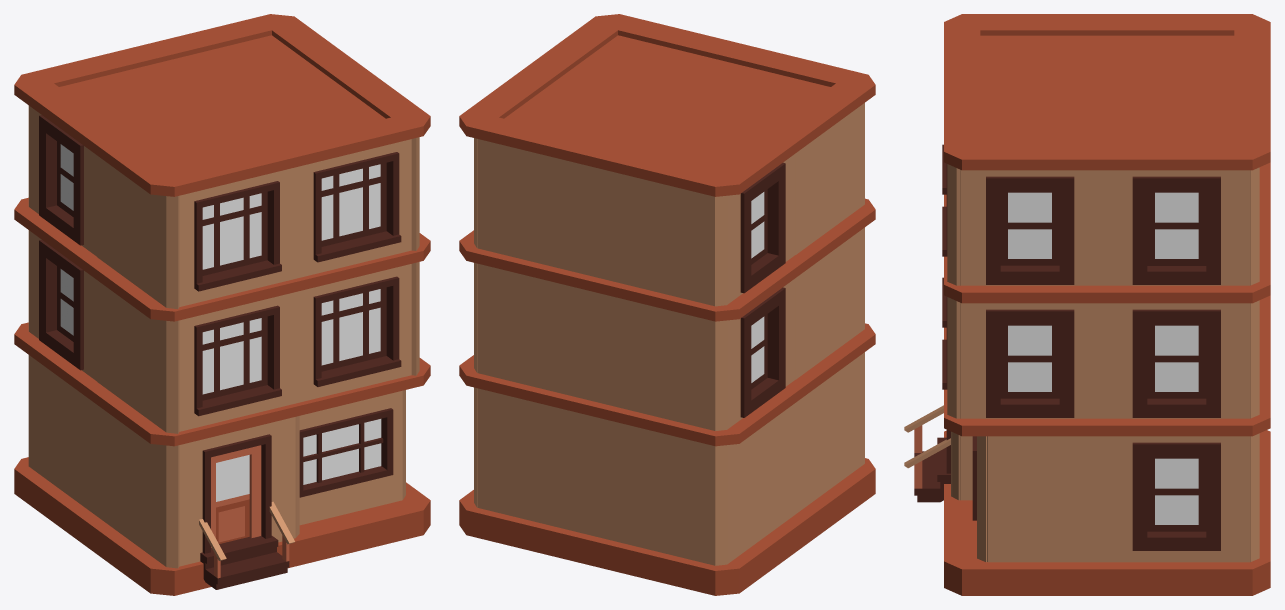
The model's file is Building_3.fbx.
The picture shows the model from 3 angles, left to right: view 1: azimuth 30°, elevation 25°; view 2: azimuth 150°, elevation 25°; view 3: azimuth 270°, elevation 25°; orthographic projection. The views are drawn at different scales.
Parts seen in each view (by area): view 1: mergedBlocks; view 2: mergedBlocks; view 3: mergedBlocks.
Part boxes in pixels (x1,y1,x2,y2): mergedBlocks: (14,14,430,595); mergedBlocks: (459,14,875,595); mergedBlocks: (904,14,1270,595).
Bounding box in the file's own units: 23.51 × 32.8 × 24.98.
